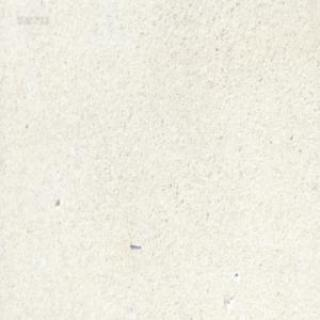Nailtrack_idkeyframe: (129, 241, 140, 249)
